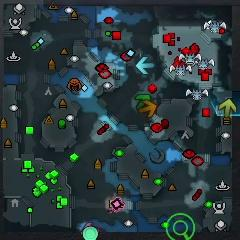p2: (81, 227, 99, 240)
x1: (82, 222, 102, 233)
x1Clone: (110, 197, 124, 212)
x2: (218, 98, 237, 117)
x3: (135, 56, 157, 75)
x4: (133, 93, 151, 110)
x5: (138, 101, 158, 117)
